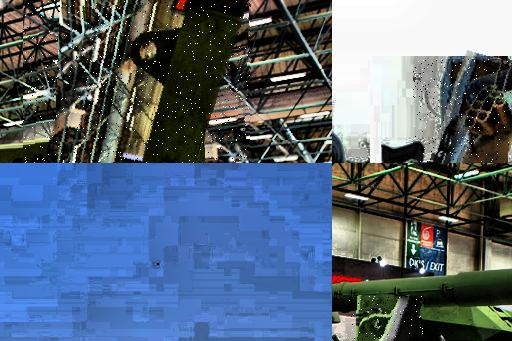tanks: (133, 1, 251, 164), (333, 272, 512, 324), (436, 60, 512, 164), (372, 308, 512, 341), (377, 297, 424, 341)
